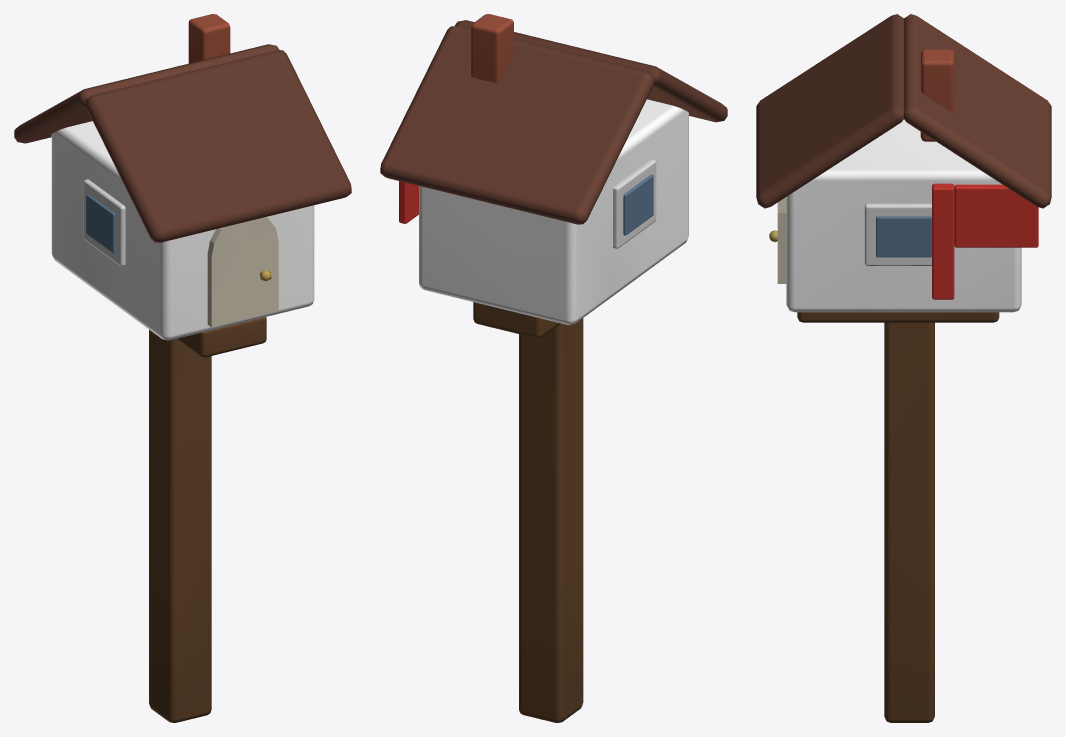
The model's file is mailbox_cottage.glb.
The picture shows the model from 3 angles, left to right: view 1: azimuth 30°, elevation 25°; view 2: azimuth 150°, elevation 25°; view 3: azimuth 270°, elevation 25°; orthographic projection. The views are drawn at different scales.
Parts seen in each view (by area): view 1: mailbox_cottage_main, mailbox_cottage_body; view 2: mailbox_cottage_main, mailbox_cottage_body, mailbox_cottage_flag; view 3: mailbox_cottage_main, mailbox_cottage_body, mailbox_cottage_flag.
Boxes of the visible parts, box(x1,y1,x2,y2) form: mailbox_cottage_main: box(14, 14, 351, 722); mailbox_cottage_body: box(51, 121, 314, 340); mailbox_cottage_main: box(380, 14, 727, 722); mailbox_cottage_body: box(419, 99, 688, 324); mailbox_cottage_flag: box(399, 181, 418, 223); mailbox_cottage_main: box(756, 14, 1051, 722); mailbox_cottage_body: box(786, 119, 1021, 312); mailbox_cottage_flag: box(932, 183, 1038, 299).
Size of the model in its own units: 0.42 by 1.34 by 0.5262.
